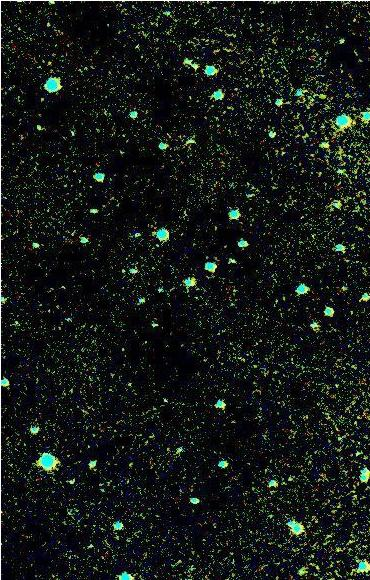star: (338, 4, 368, 34)
